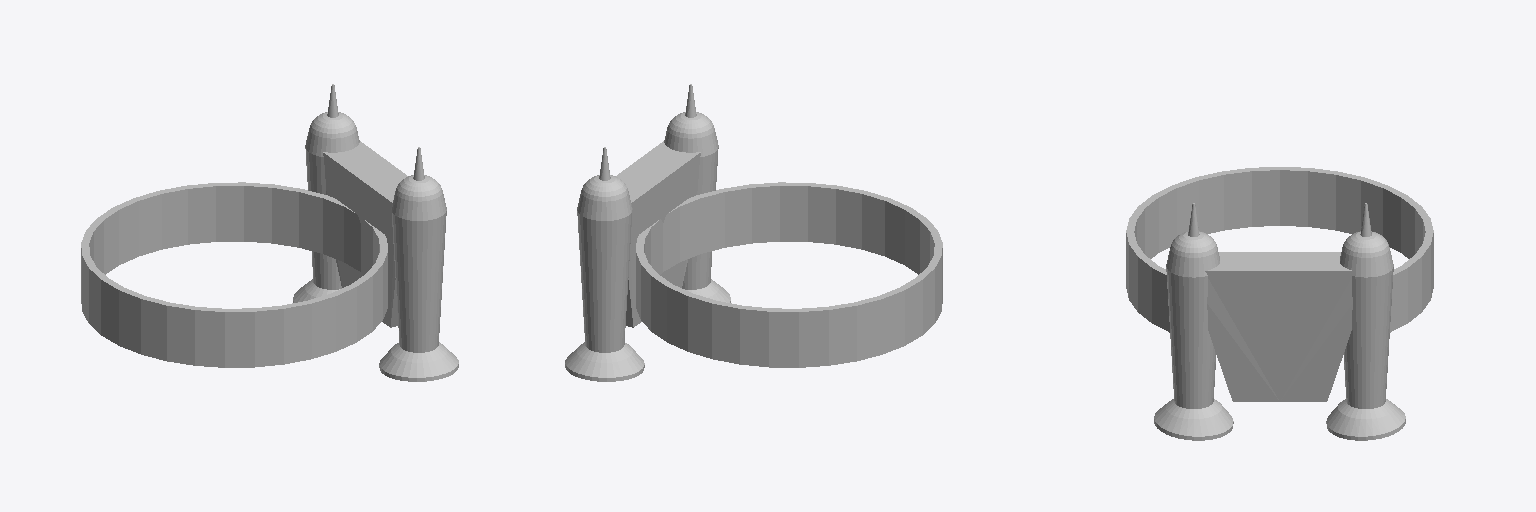
The model's file is Belt.obj.
3 views of the same model, side by side, from view 1: azimuth 30°, elevation 25°; view 2: azimuth 150°, elevation 25°; view 3: azimuth 270°, elevation 25° (orthographic).
Visible parts, largest first — view 1: Cube_Cube.001; view 2: Cube_Cube.001; view 3: Cube_Cube.001.
Boxes of the visible parts, <box> form: Cube_Cube.001: <box>81,84,458,381</box>; Cube_Cube.001: <box>565,84,942,381</box>; Cube_Cube.001: <box>1126,167,1433,440</box>.
Size of the model in its own units: 2.57 by 1.76 by 2.21.